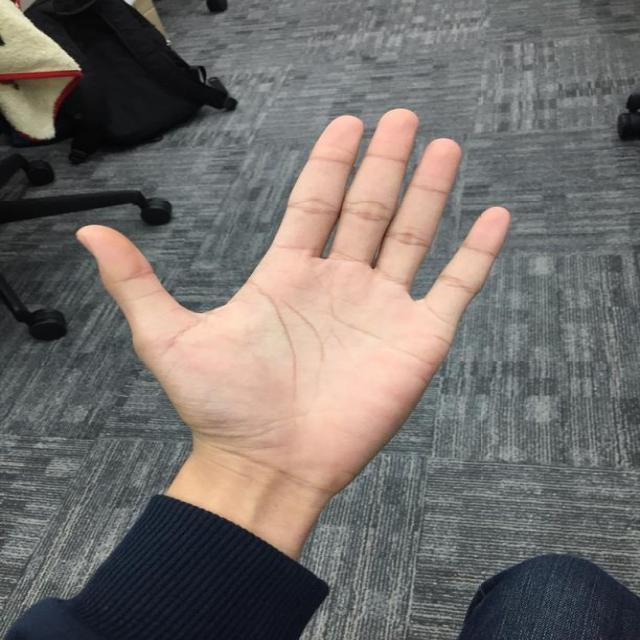no-gloves: (68, 106, 510, 480)
